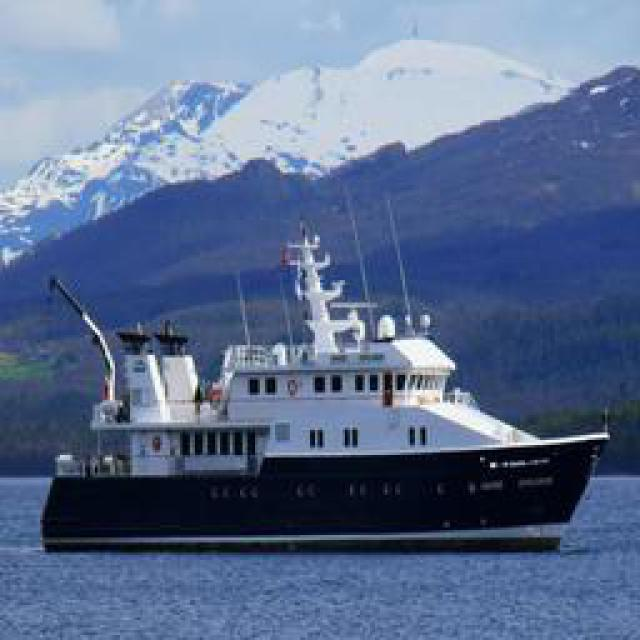Ship: (31, 183, 619, 541)
